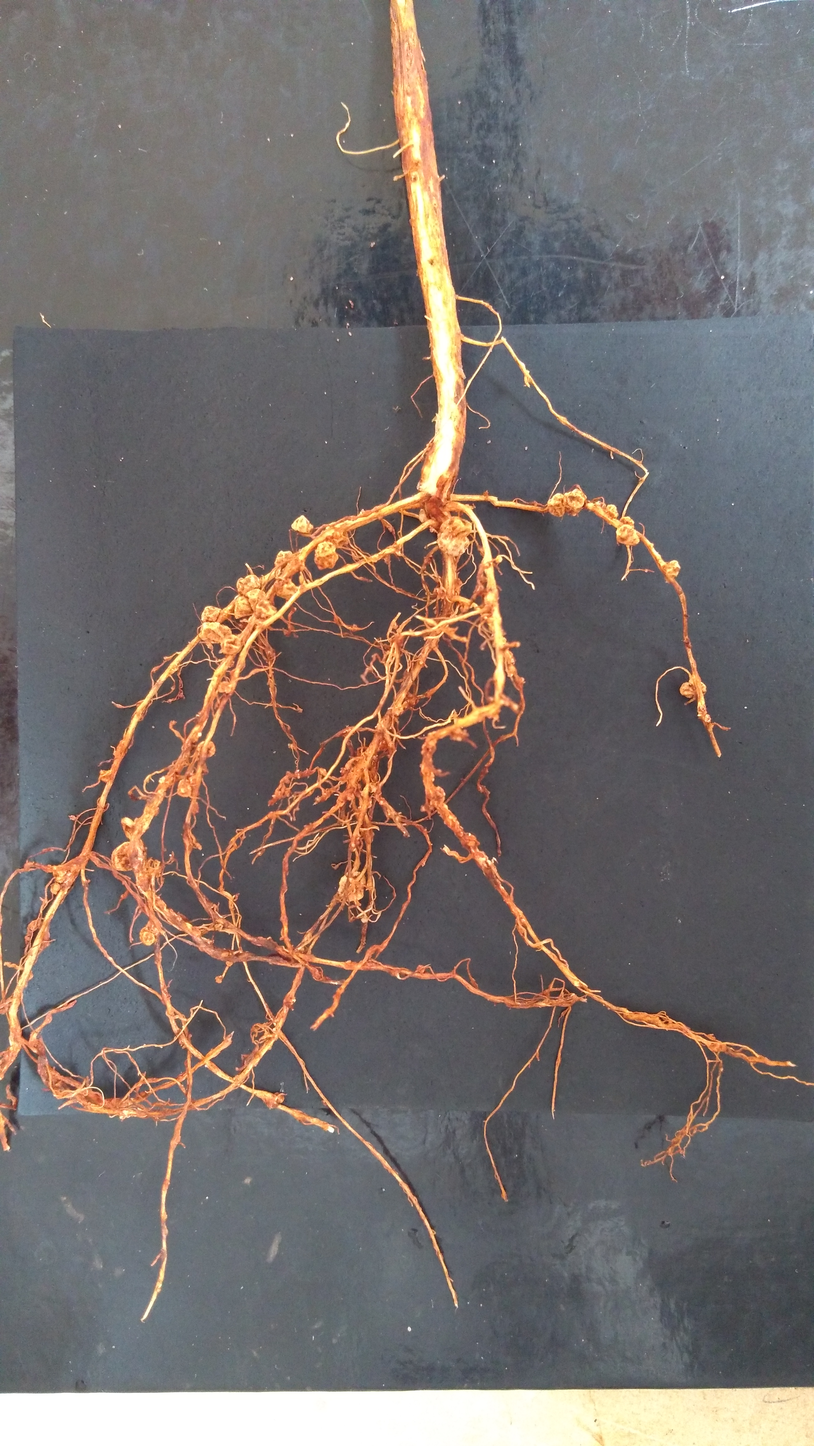nodule: (437, 515, 472, 557), (110, 841, 147, 871), (245, 588, 278, 621), (356, 745, 379, 786), (338, 871, 366, 901), (198, 621, 233, 645), (313, 541, 339, 570), (324, 520, 350, 549), (563, 489, 587, 517), (274, 577, 298, 600), (615, 524, 640, 546), (236, 574, 261, 596), (220, 633, 242, 656), (547, 493, 567, 518), (234, 594, 254, 619), (679, 681, 707, 698), (291, 515, 314, 534), (418, 507, 435, 532), (194, 740, 216, 758), (200, 605, 222, 623), (663, 560, 680, 583), (504, 648, 517, 678), (140, 926, 159, 946), (274, 550, 293, 570), (298, 564, 314, 587), (266, 1092, 284, 1111), (430, 785, 445, 807), (121, 817, 136, 839), (336, 787, 354, 805), (340, 758, 359, 775), (449, 727, 470, 742), (52, 865, 68, 884), (177, 778, 192, 797), (482, 591, 497, 607), (708, 1041, 729, 1052), (619, 516, 635, 530), (376, 738, 390, 754), (62, 870, 75, 887), (605, 504, 619, 519), (187, 771, 201, 785), (217, 681, 232, 694), (435, 586, 448, 600), (391, 634, 405, 647), (157, 775, 174, 785), (99, 770, 112, 783), (357, 508, 371, 519), (454, 576, 463, 593), (190, 800, 200, 815), (419, 804, 435, 813), (459, 600, 470, 613), (200, 760, 209, 775), (50, 883, 61, 895), (303, 931, 313, 944), (70, 863, 80, 876), (416, 963, 426, 975), (595, 501, 606, 511), (370, 784, 379, 794), (379, 796, 388, 806), (424, 442, 434, 451), (704, 713, 712, 724), (495, 554, 504, 563), (318, 767, 327, 776), (214, 974, 223, 983), (466, 840, 477, 847), (367, 797, 373, 809), (435, 575, 442, 583), (441, 802, 448, 810), (225, 959, 233, 966), (284, 777, 291, 785), (284, 789, 290, 798), (392, 621, 398, 629), (344, 959, 352, 965), (532, 500, 538, 507), (419, 660, 424, 666)
